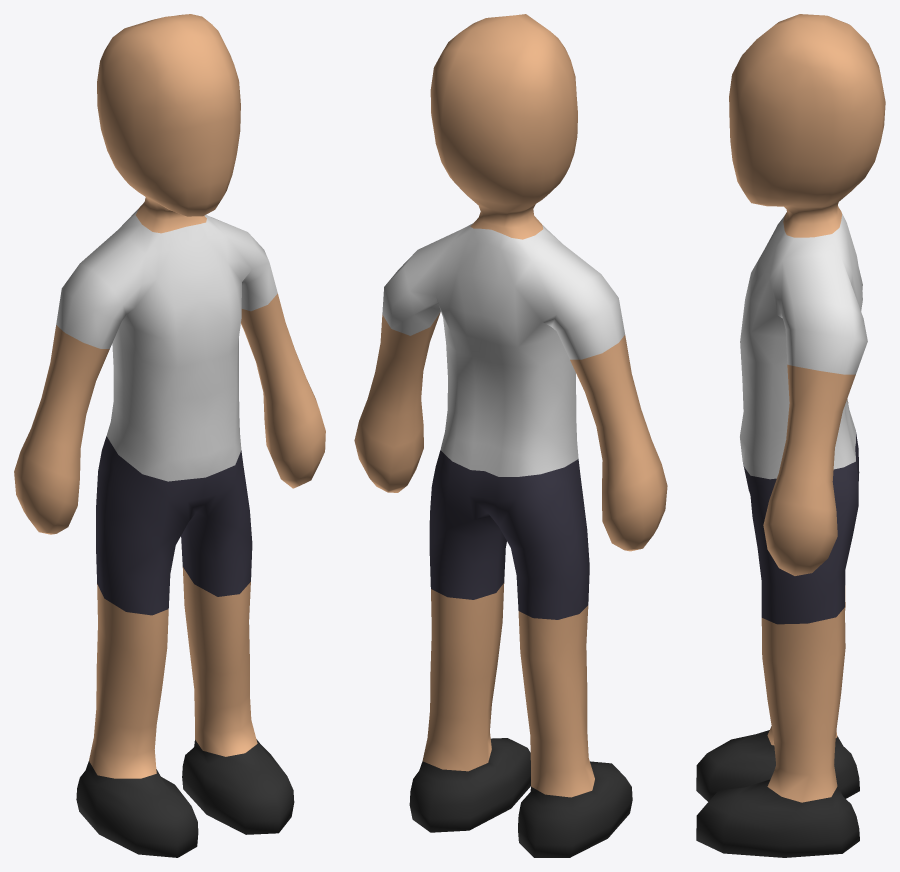
The model's file is Next_NPC.fbx.
3 views of the same model, side by side, from view 1: azimuth 30°, elevation 25°; view 2: azimuth 150°, elevation 25°; view 3: azimuth 270°, elevation 25° (orthographic). The views are drawn at different scales.
Visible parts, largest first — view 1: Bob; view 2: Bob; view 3: Bob.
Part boxes in pixels (x1,y1,x2,y2): Bob: [14, 14, 325, 857]; Bob: [354, 14, 667, 857]; Bob: [696, 14, 885, 857].
Size of the model in its own units: 420 by 1078 by 232.
